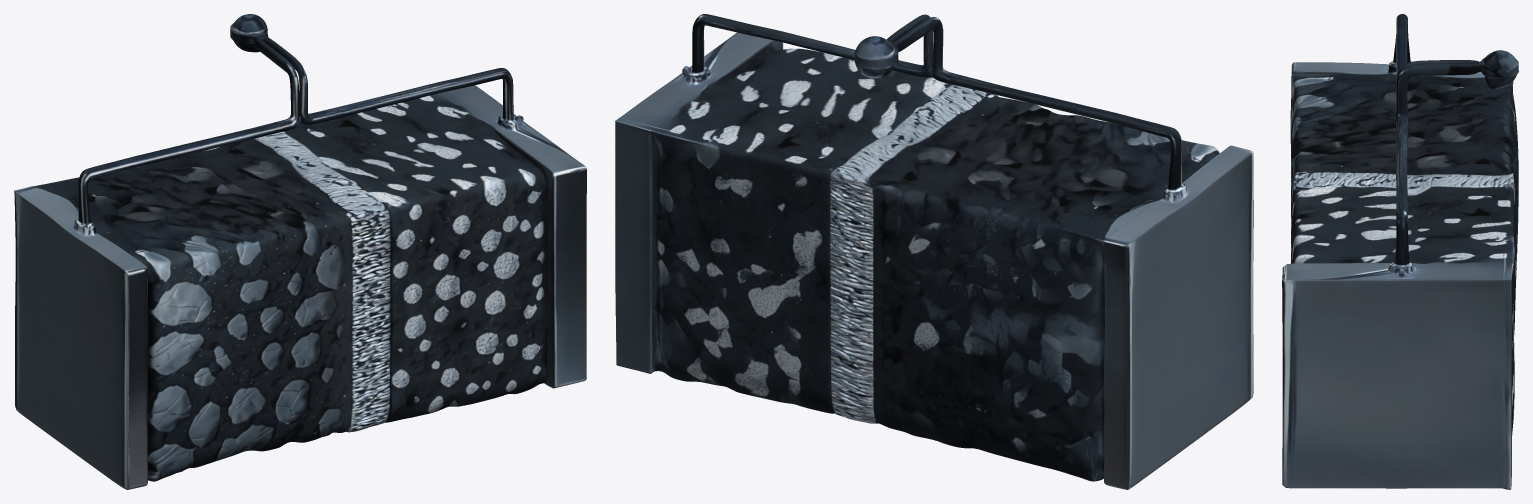
3 renders of one model, left to right at view 1: azimuth 30°, elevation 25°; view 2: azimuth 150°, elevation 25°; view 3: azimuth 270°, elevation 25°, orthographic. The views are drawn at different scales.
Parts seen in each view (by area): view 1: geometry_0; view 2: geometry_0; view 3: geometry_0.
Part boxes in pixels (box(x1,y1,x2,y2)): geometry_0: box(14, 14, 586, 489); geometry_0: box(615, 14, 1253, 489); geometry_0: box(1282, 14, 1518, 489).
Bounding box in the file's own units: 1.9 × 1.36 × 0.8764.
1 material, 1 textured.
